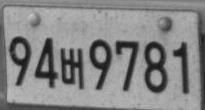1: (171, 40, 195, 94)
4: (33, 37, 59, 88)
7: (114, 39, 139, 92)
8: (143, 40, 169, 93)
9: (8, 34, 32, 86), (88, 38, 112, 89)
버: (60, 47, 85, 90)
